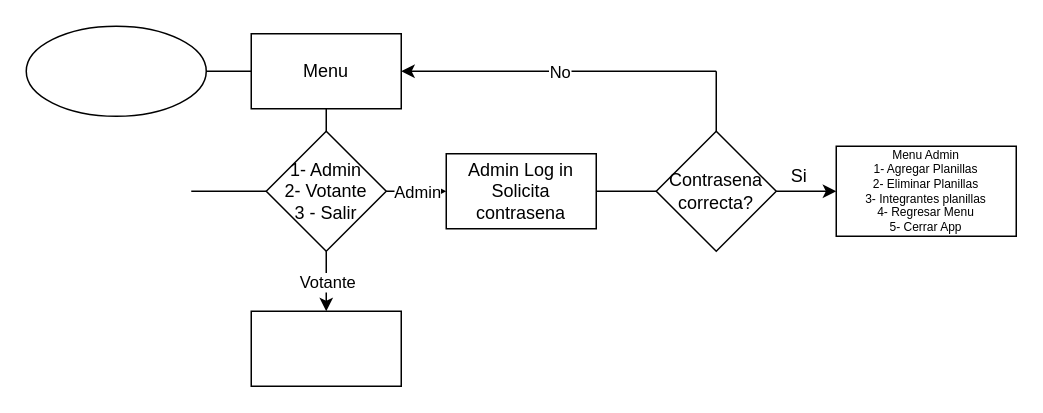
Image size: 1043x413. Some labels were removed from this diagram. Here are the shapes that lost their labels. From the top down, the centre of each, then its label:
(x=115, y=70): Inicio
(x=325, y=348): Votante Log in
